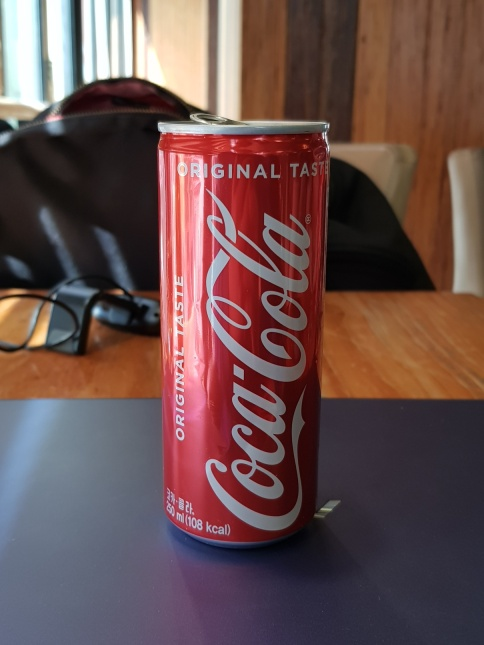Can: (152, 109, 331, 547)
